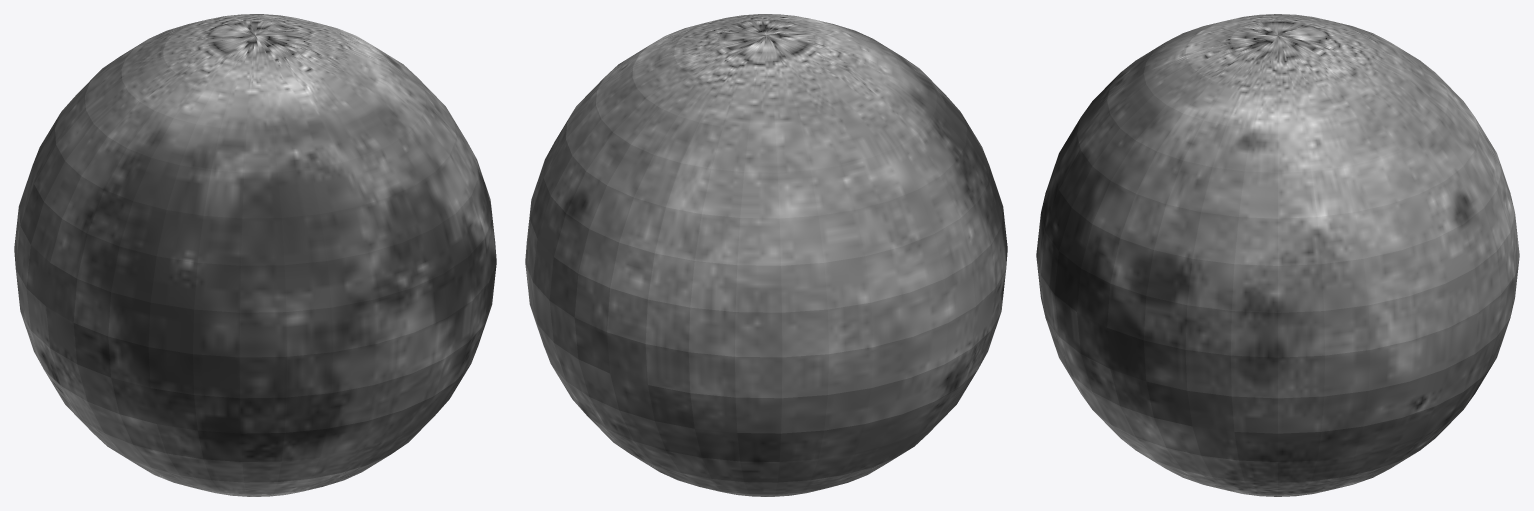
File: moon.obj
The picture shows the model from 3 angles, left to right: view 1: azimuth 30°, elevation 25°; view 2: azimuth 150°, elevation 25°; view 3: azimuth 270°, elevation 25°; orthographic projection.
Parts seen in each view (by area): view 1: Sphere; view 2: Sphere; view 3: Sphere.
Boxes of the visible parts, left/top/right/bottom form: Sphere: left=14, top=14, right=496, bottom=496; Sphere: left=525, top=14, right=1007, bottom=496; Sphere: left=1036, top=14, right=1519, bottom=496.
Bounding box in the file's own units: 2 × 2.01 × 2.
1 material, 1 textured.
